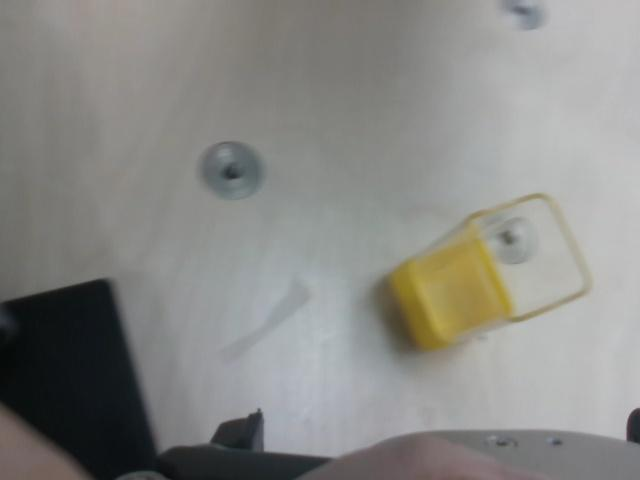yellow_cup: (389, 238, 513, 353)
